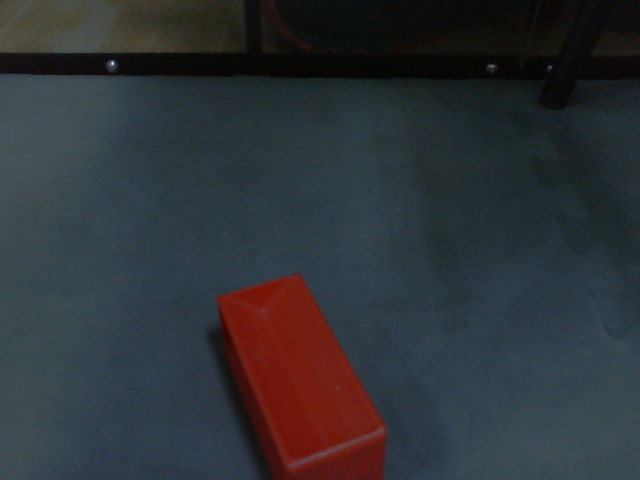RedSample: (216, 270, 391, 480)
